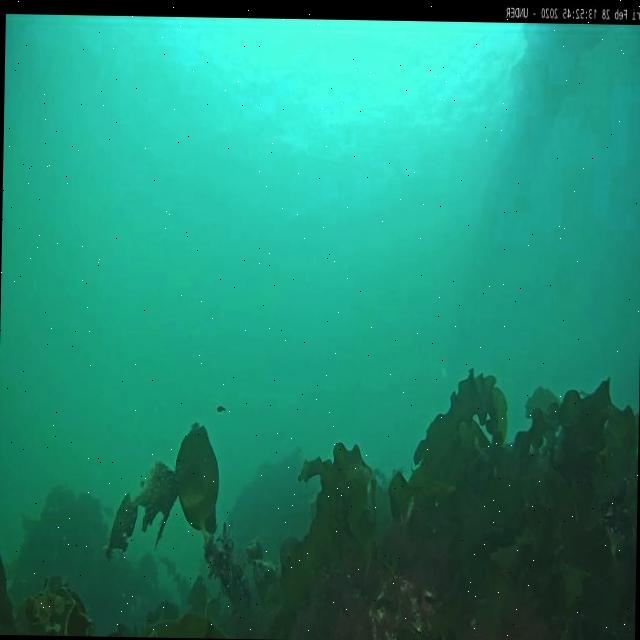fish: (217, 404, 226, 414)
